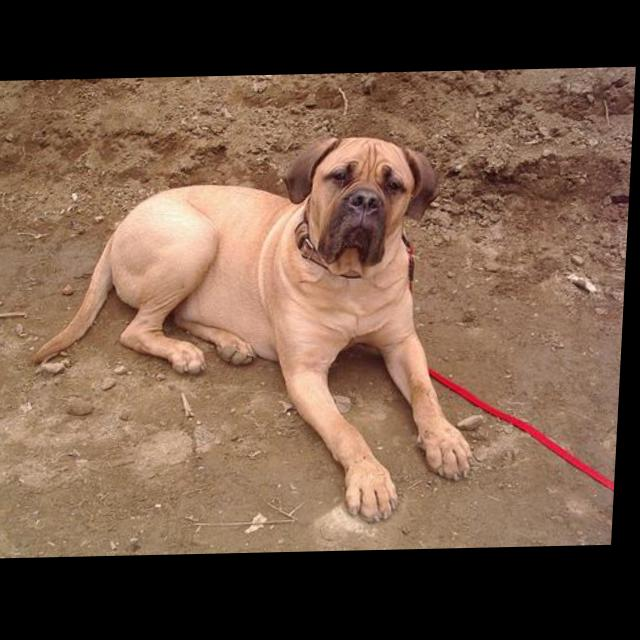bullmastiff: (30, 135, 501, 532)
